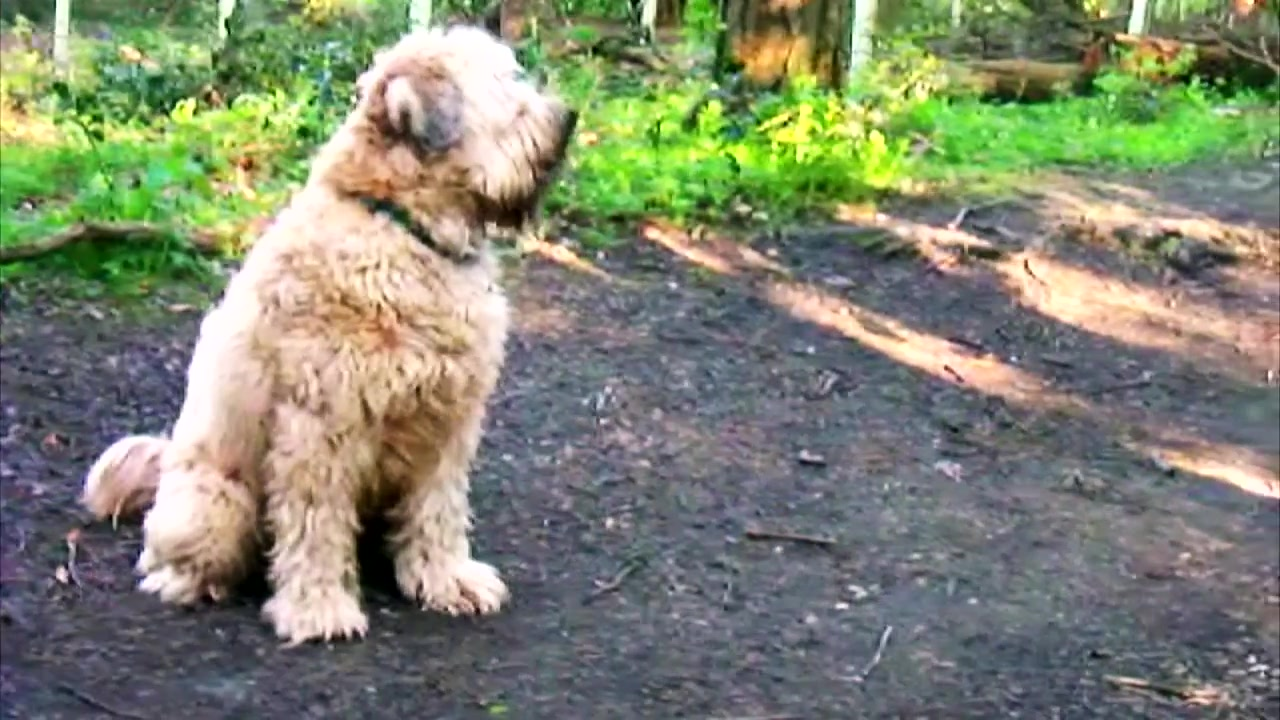dog: (80, 22, 581, 646)
